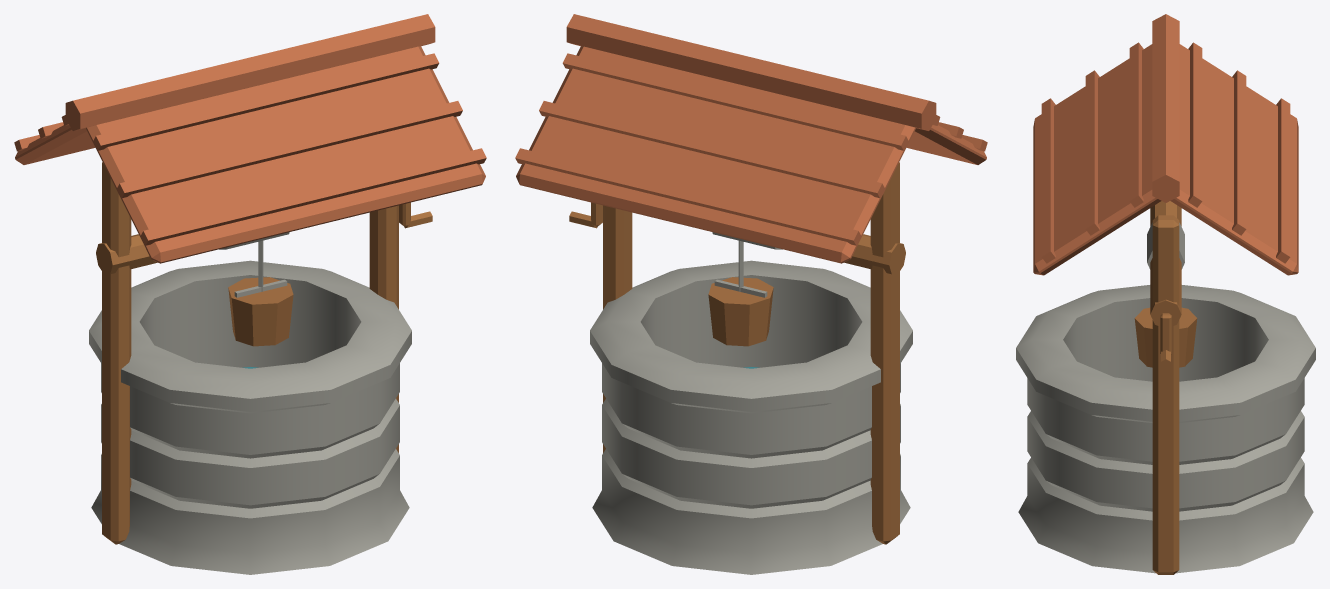
Rendered from sumur.glb.
3 views of the same model, side by side, from view 1: azimuth 30°, elevation 25°; view 2: azimuth 150°, elevation 25°; view 3: azimuth 270°, elevation 25° (orthographic). The views are drawn at different scales.
Parts seen in each view (by area): view 1: sumur_mesh; view 2: sumur_mesh; view 3: sumur_mesh.
Part boxes in pixels (x1=…): sumur_mesh: x1=14, y1=14, x2=486, y2=574; sumur_mesh: x1=515, y1=14, x2=987, y2=574; sumur_mesh: x1=1016, y1=14, x2=1315, y2=574.
Size of the model in its own units: 1.71 by 2.06 by 1.34.
